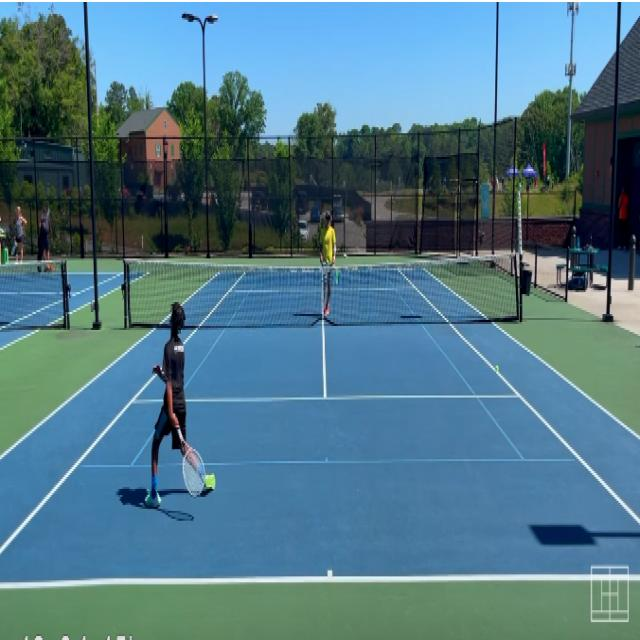ball: (495, 365, 500, 373)
